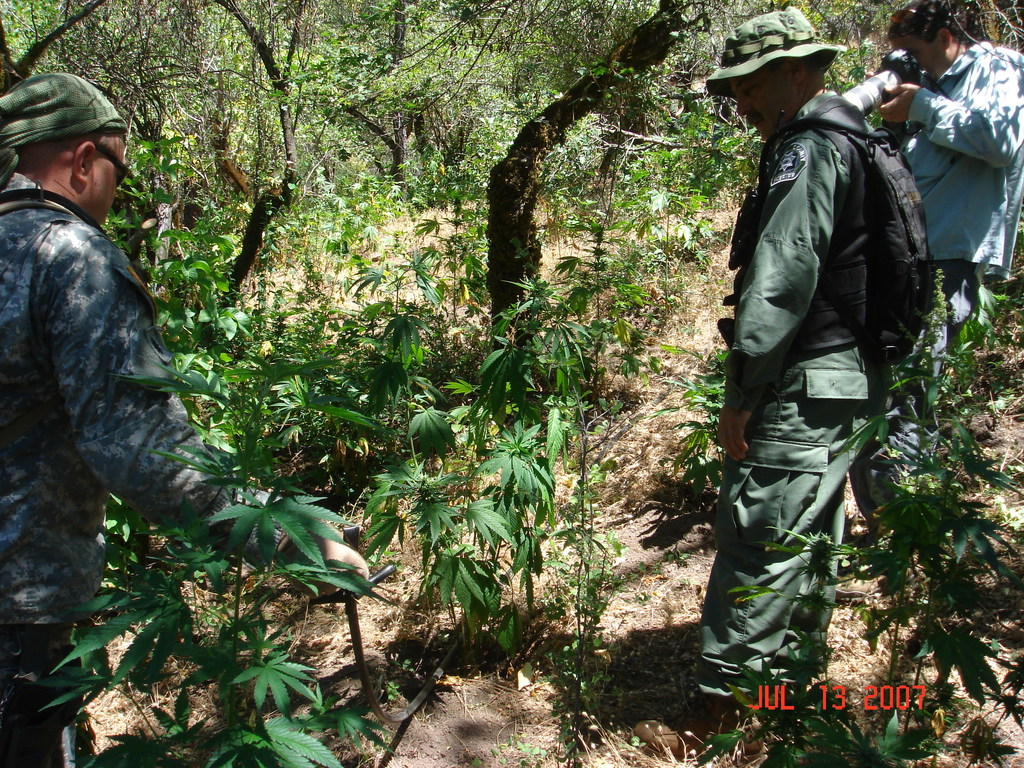Tree: (0, 0, 1024, 308)
